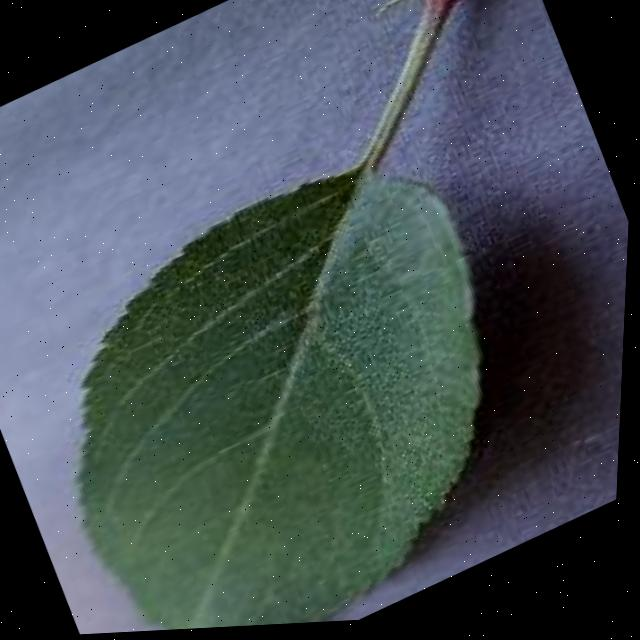healthy: (0, 101, 598, 640)
